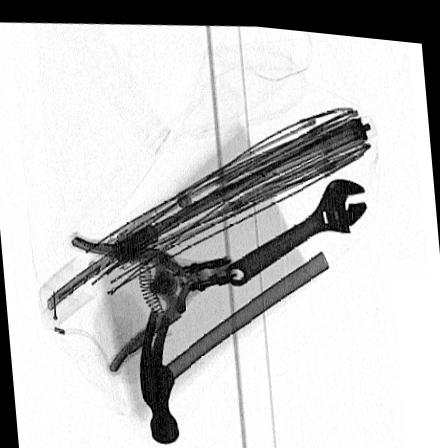Hammer: (137, 246, 341, 441)
Pliers: (66, 230, 240, 374)
Wrench: (225, 170, 368, 280)
